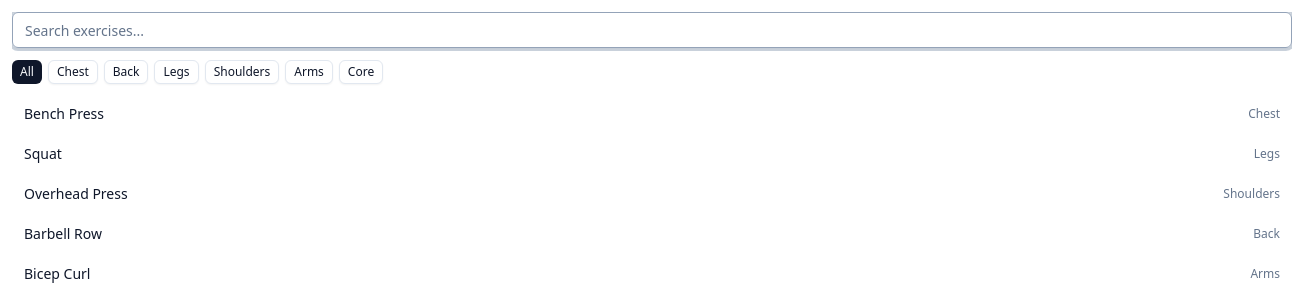
Scenario: ExercisePicker › filters exercises by search input
Expected: the text "Bench Press" is shown, [24, 104, 104, 124]
Type "bench" into the field with placeholder "Search exercises...".
click(652, 30); type("bench")  # box [12, 12, 1292, 48]
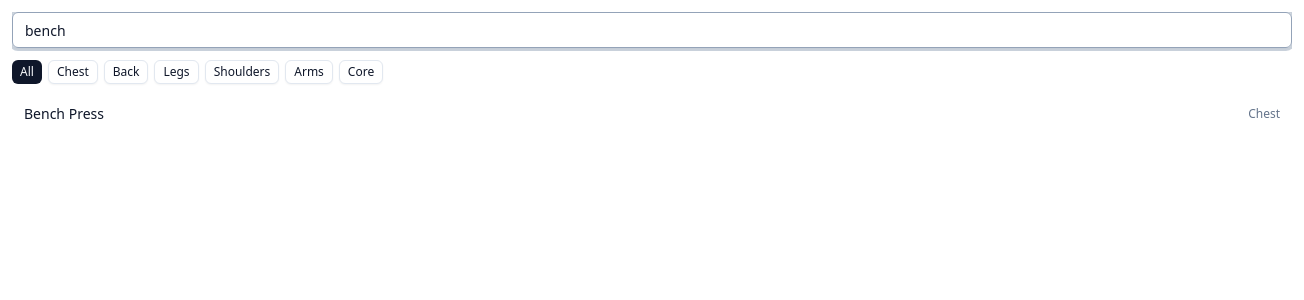
Expected: the text "Bench Press" is shown, [24, 104, 104, 124]
Expected: the button "Squat" is gone
Expected: the button "Overhead Press" is gone
